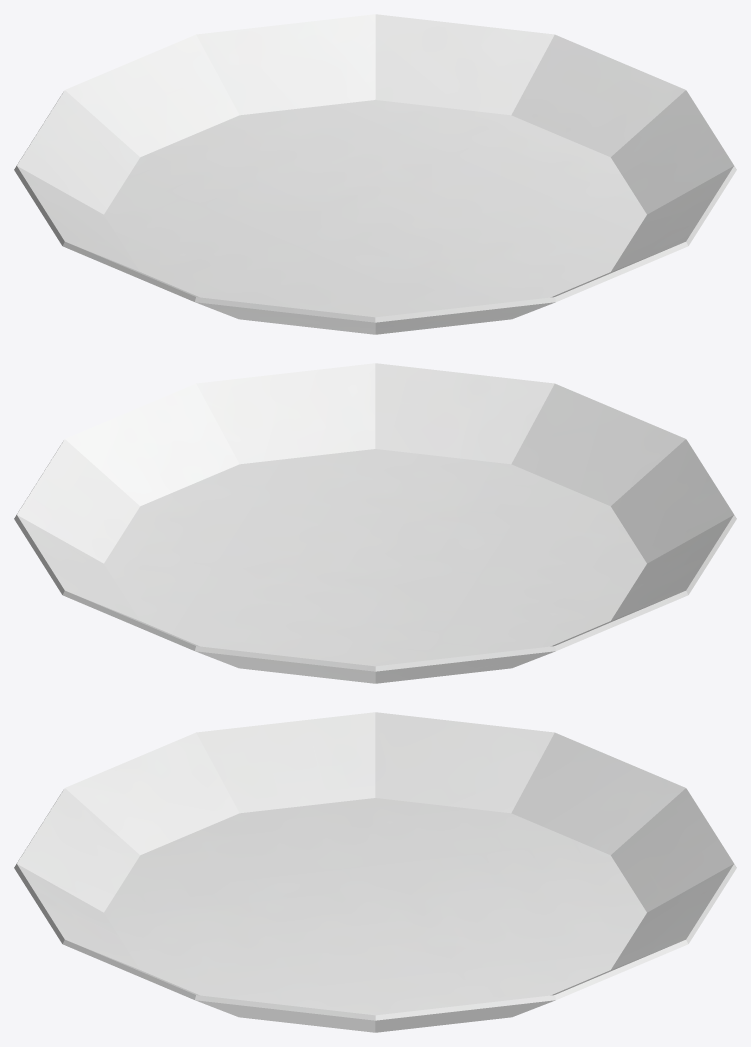
File: Plate_1.fbx
The picture shows the model from 3 angles, top to bottom: view 1: azimuth 30°, elevation 25°; view 2: azimuth 150°, elevation 25°; view 3: azimuth 270°, elevation 25°; orthographic projection.
Parts seen in each view (by area): view 1: Plate 1; view 2: Plate 1; view 3: Plate 1.
Part boxes in pixels (left/top/right/bottom): Plate 1: left=14, top=14, right=736, bottom=334; Plate 1: left=14, top=363, right=736, bottom=683; Plate 1: left=14, top=712, right=736, bottom=1032.
Size of the model in its own units: 27.04 by 2.21 by 27.04.
